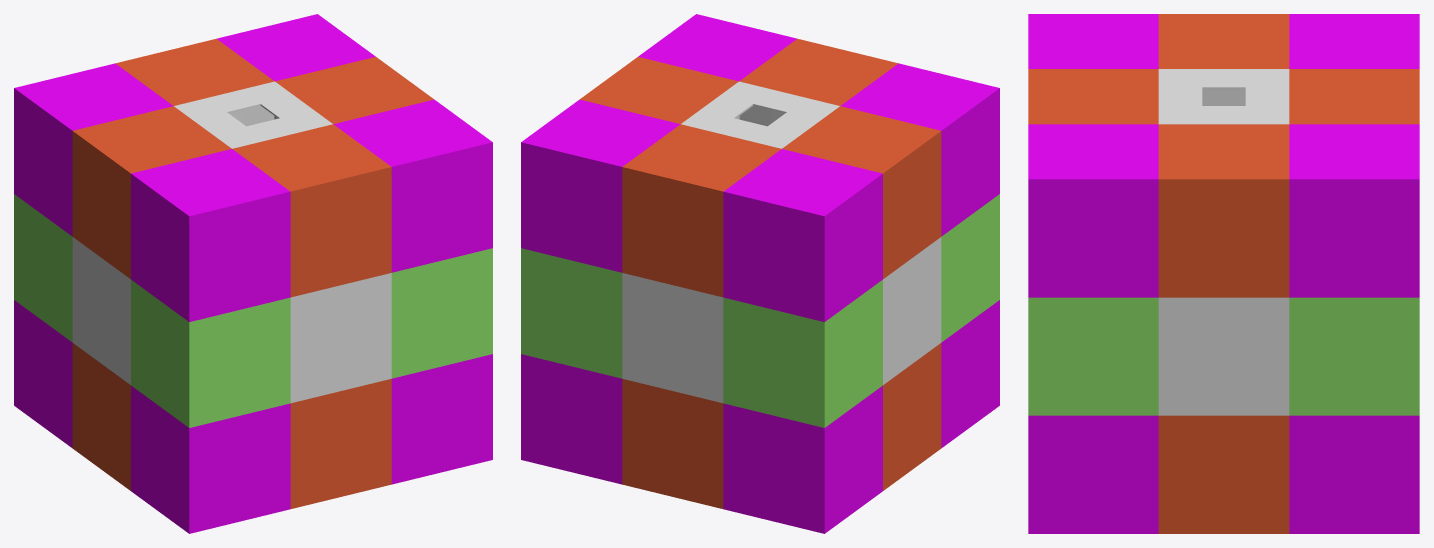
The picture shows the model from 3 angles, left to right: view 1: azimuth 30°, elevation 25°; view 2: azimuth 150°, elevation 25°; view 3: azimuth 270°, elevation 25°; orthographic projection. The views are drawn at different scales.
Visible parts, largest first — view 1: esquinas der.007, Cube.015, esquinas der.008, esquinas der.011, Cube.014, Cube.016, esquinas der.012, Cube.025, esquinas der.010, Cube.018, centro.012, Cube.022 (+7 smaller); view 2: esquinas der.012, Cube.023, esquinas der.005, esquinas der.006, Cube.017, Cube.016, esquinas der.007, Cube.024, esquinas der.009, Cube.019, centro.009, Cube.015 (+7 smaller); view 3: Cube.020, esquinas der.006, esquinas der.011, Cube.021, centro.010, Cube.024, Cube.025, esquinas der.009, esquinas der.010, centro.tunel.002, Cube.014, Cube.017 (+3 smaller).
Part boxes in pixels (box(x1,y1,x2,y2)): esquinas der.007: box(131, 149, 290, 321); Cube.015: box(131, 280, 290, 427); esquinas der.008: box(131, 385, 290, 533); esquinas der.011: box(333, 99, 492, 272); Cube.014: box(232, 124, 391, 297); Cube.016: box(72, 106, 231, 278); esquinas der.012: box(14, 63, 173, 236); Cube.025: box(391, 248, 492, 378); esquinas der.010: box(391, 354, 492, 484); Cube.018: box(290, 379, 391, 508); centro.012: box(290, 273, 391, 403); Cube.022: box(72, 343, 130, 490); esquinas der.012: box(723, 149, 882, 321); Cube.023: box(723, 280, 882, 427); esquinas der.005: box(723, 385, 882, 533); esquinas der.006: box(521, 99, 680, 272); Cube.017: box(622, 124, 781, 297); Cube.016: box(782, 106, 941, 278); esquinas der.007: box(840, 63, 999, 236); Cube.024: box(521, 248, 622, 378); esquinas der.009: box(521, 354, 622, 484); Cube.019: box(622, 379, 723, 508); centro.009: box(622, 273, 723, 403); Cube.015: box(941, 194, 999, 342); Cube.020: box(1158, 124, 1289, 297); esquinas der.006: box(1289, 124, 1419, 297); esquinas der.011: box(1028, 124, 1158, 297); Cube.021: box(1158, 415, 1289, 533); centro.010: box(1158, 297, 1289, 415); Cube.024: box(1289, 297, 1419, 415); Cube.025: box(1028, 297, 1158, 415); esquinas der.009: box(1289, 415, 1419, 533); esquinas der.010: box(1028, 415, 1158, 533); centro.tunel.002: box(1158, 69, 1289, 124); Cube.014: box(1028, 69, 1158, 124); Cube.017: box(1289, 69, 1419, 124).
Bounding box in the file's own units: 180 × 180 × 180.
